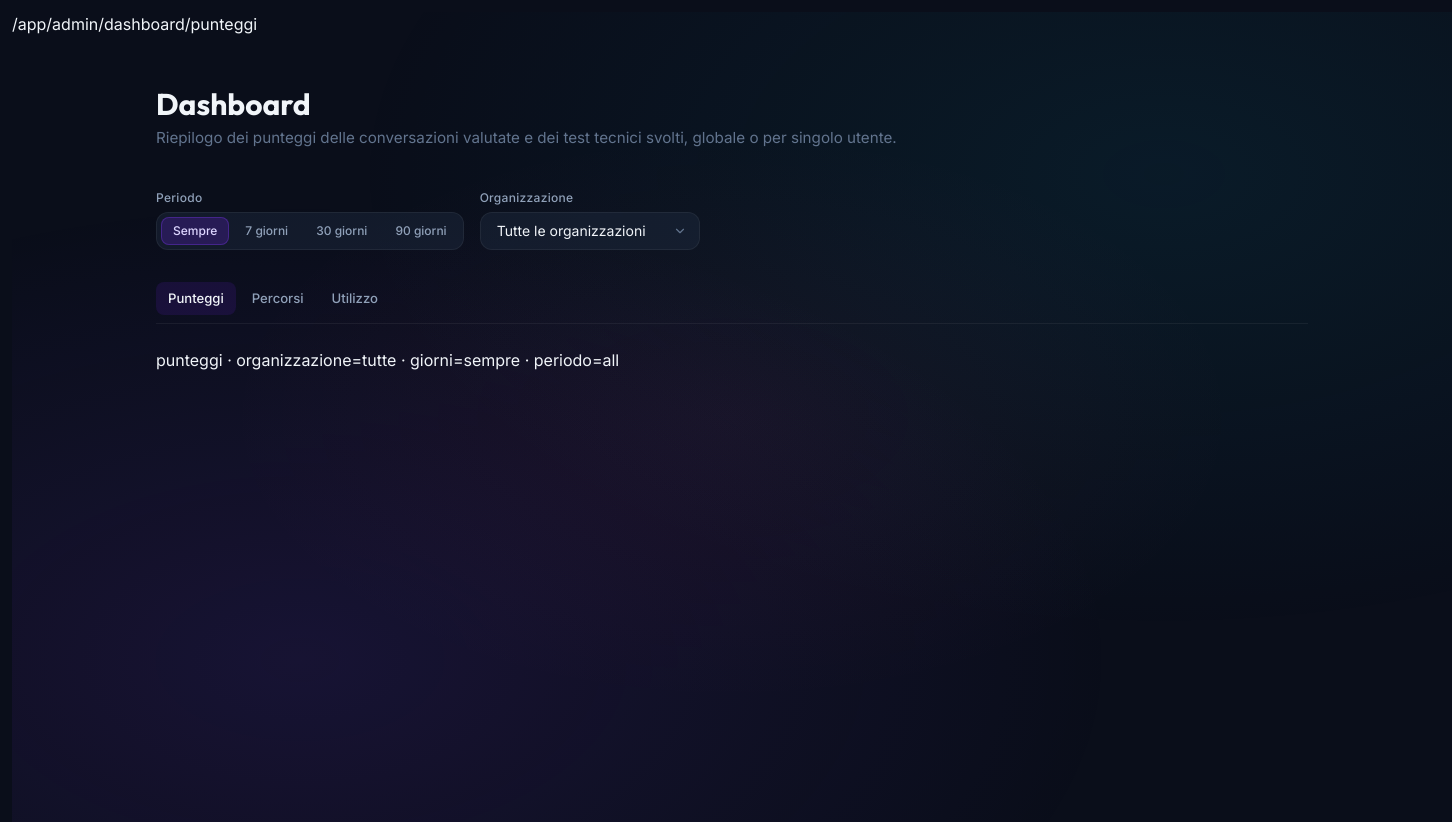
Test: i filtri del guscio › scrive nell’indirizzo il periodo scelto
What coordinates should you click on to do the following:
click the radio button labelled "30 giorni"
I would click on:
 (342, 231)
Its box is [304,217,379,245].
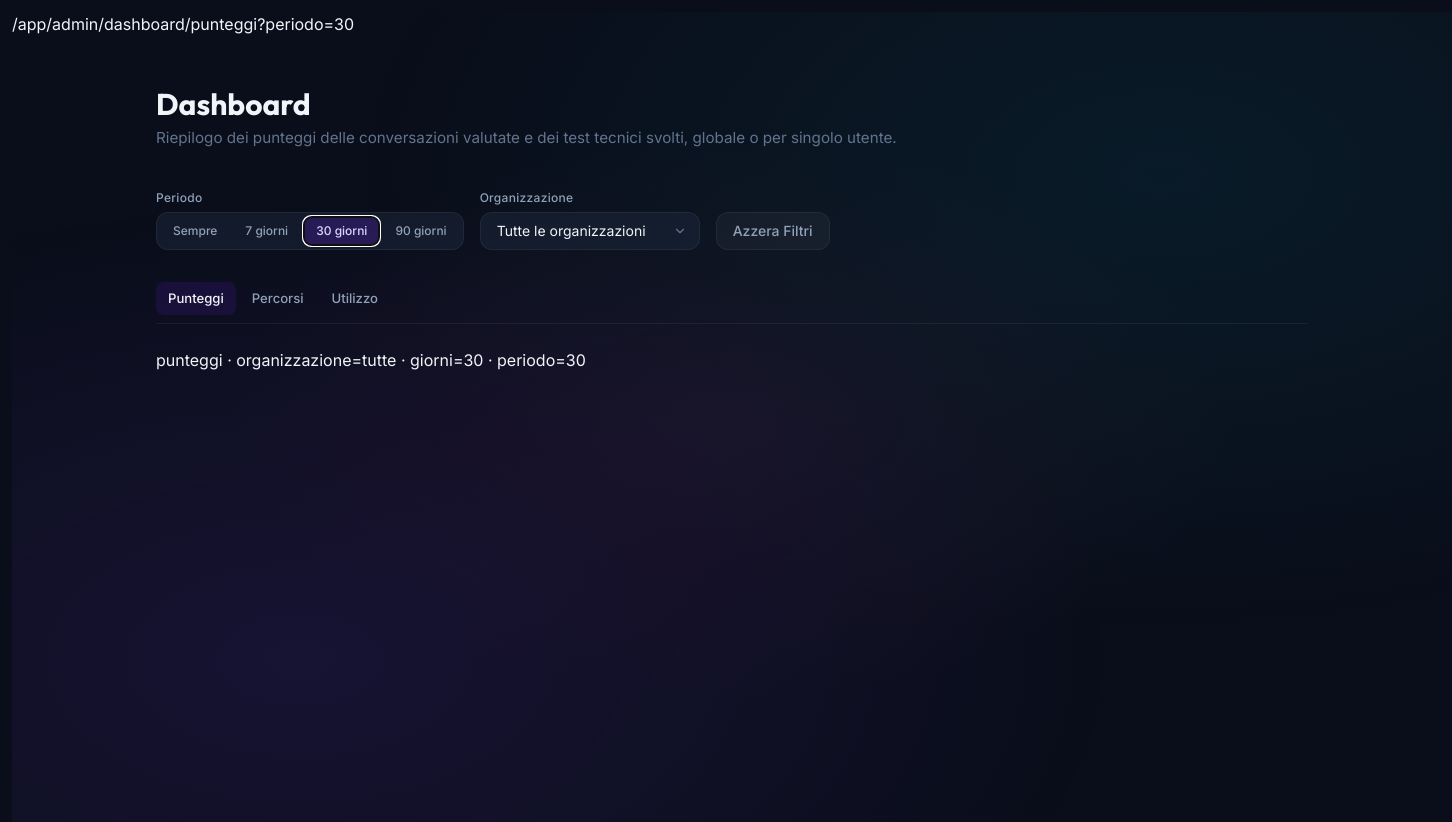
Now the text with test id "indirizzo" shows "periodo=30", box [12,14,354,34]
